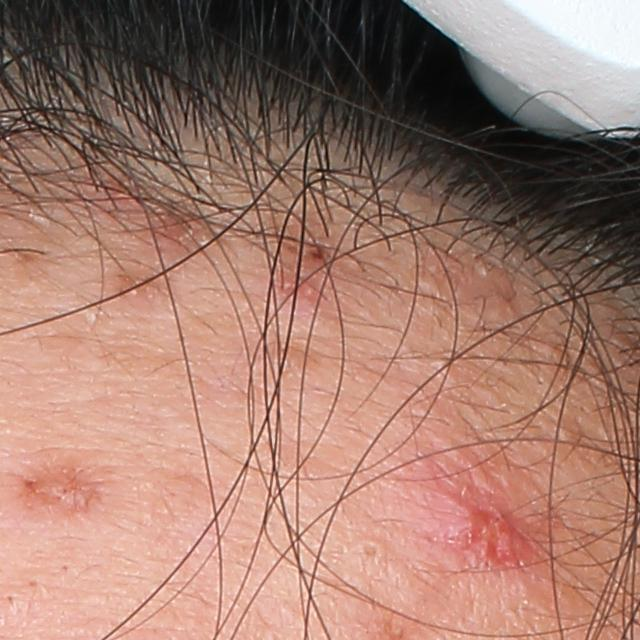comedo: (351, 536, 393, 567), (25, 575, 45, 594), (0, 591, 18, 608)
papule: (422, 496, 517, 562)
